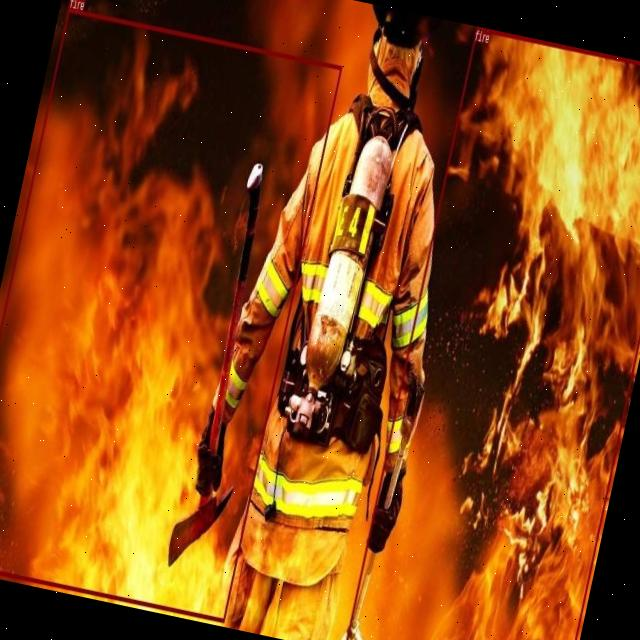fire: (0, 7, 342, 622), (345, 26, 640, 640)
